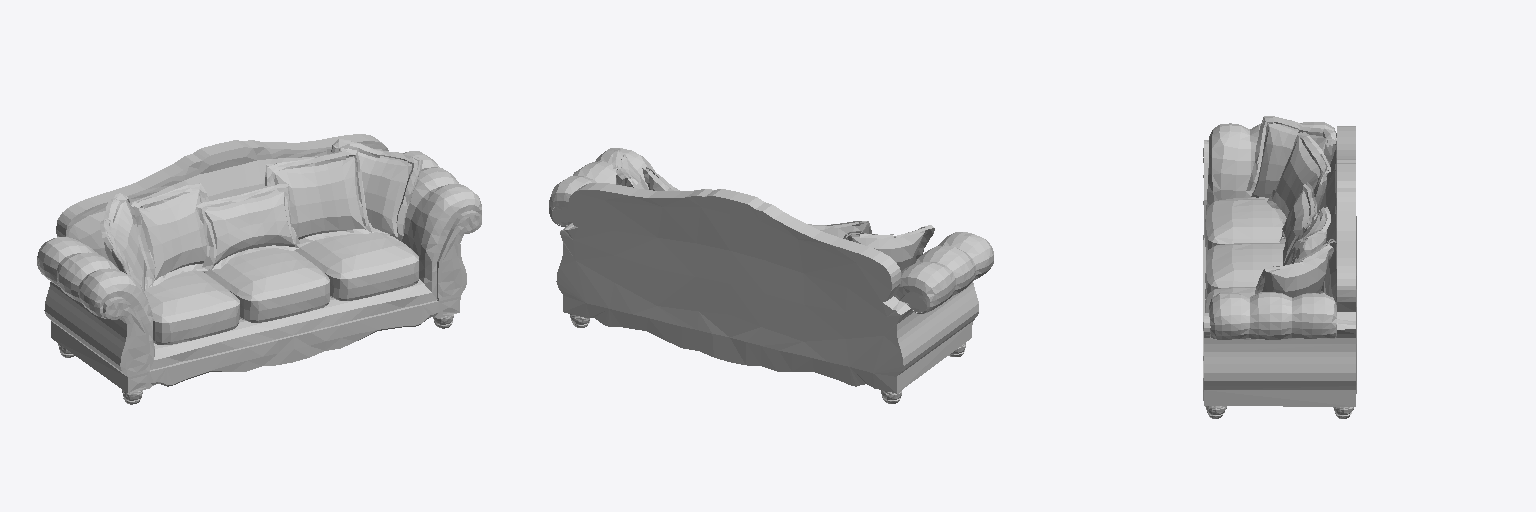
File: sofa.obj
3 renders of one model, left to right at view 1: azimuth 30°, elevation 25°; view 2: azimuth 150°, elevation 25°; view 3: azimuth 270°, elevation 25°, orthographic.
Visible parts, largest first — view 1: sofa_03_Mesh.009; view 2: sofa_03_Mesh.009; view 3: sofa_03_Mesh.009.
Boxes of the visible parts, box(x1,y1,x2,y2) form: sofa_03_Mesh.009: box(37, 134, 481, 404); sofa_03_Mesh.009: box(549, 148, 993, 403); sofa_03_Mesh.009: box(1203, 116, 1356, 418).
Size of the model in its own units: 13.66 by 5.59 by 4.63.